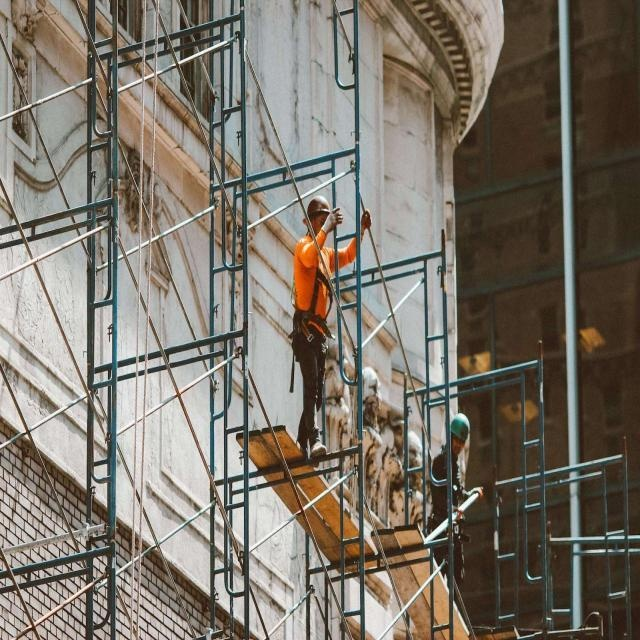Arnes_seguridad: (289, 239, 334, 347)
